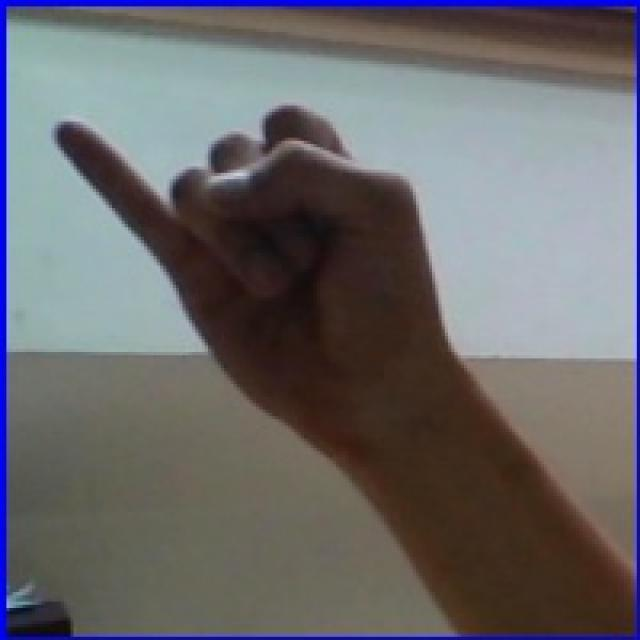J: (40, 31, 553, 484)
